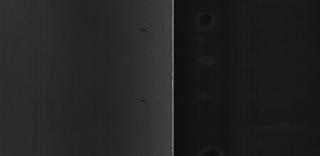oil spot: (139, 98, 155, 106), (138, 25, 148, 35)
